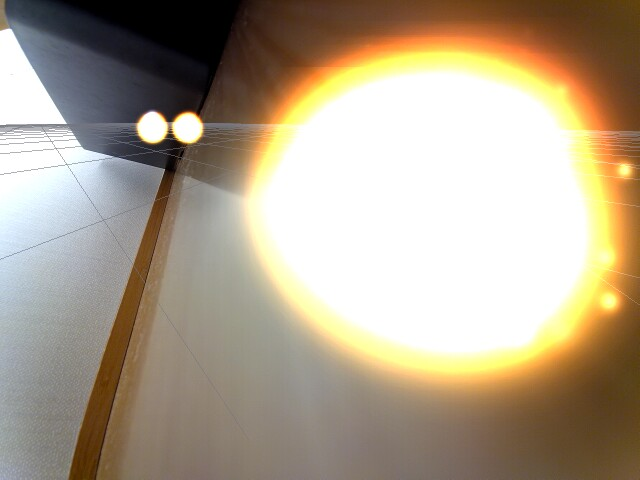firebig: (244, 25, 620, 394)
